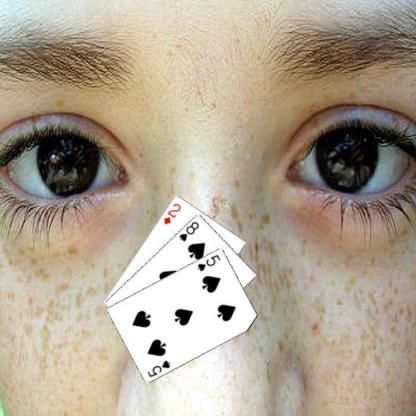2D: (161, 200, 182, 225)
5S: (145, 358, 172, 378), (195, 252, 221, 272)
8S: (176, 218, 200, 242)
